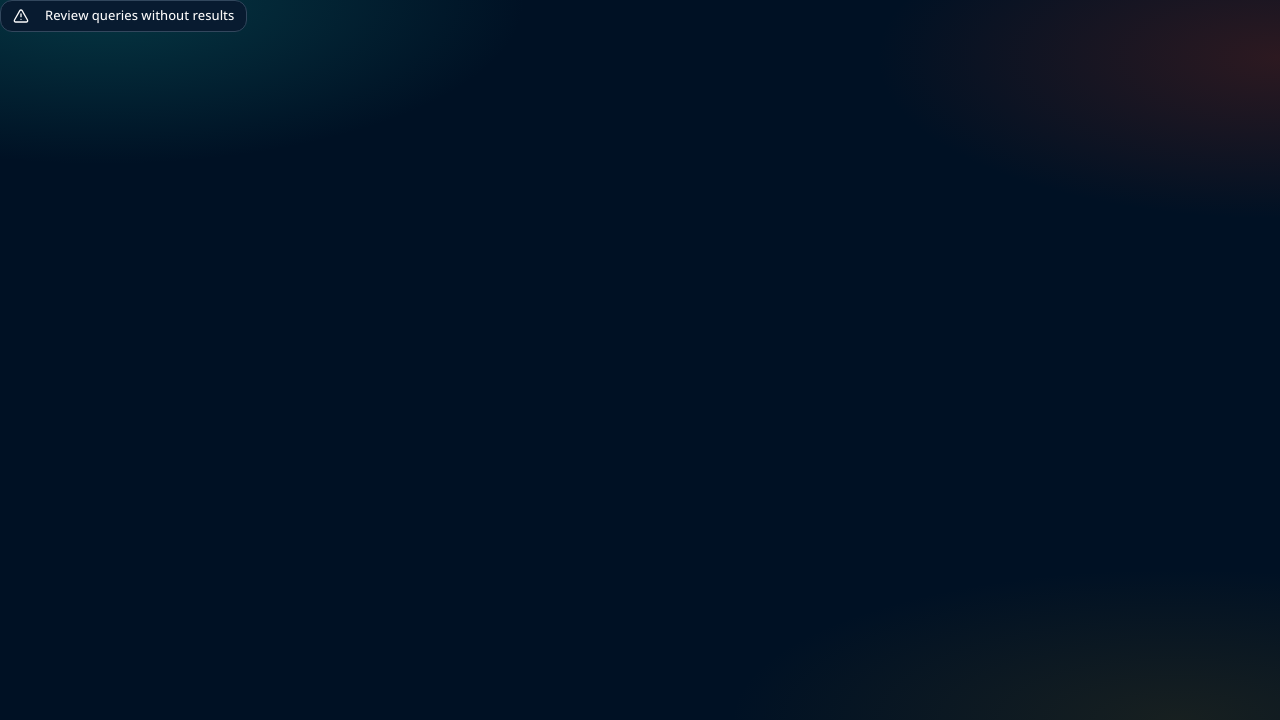
SERP exclusion review › keeps the pipeline stopped when the approved scope is rejected
Click the button "Review queries without results" at (124, 16), box 0,0 -> 247,32
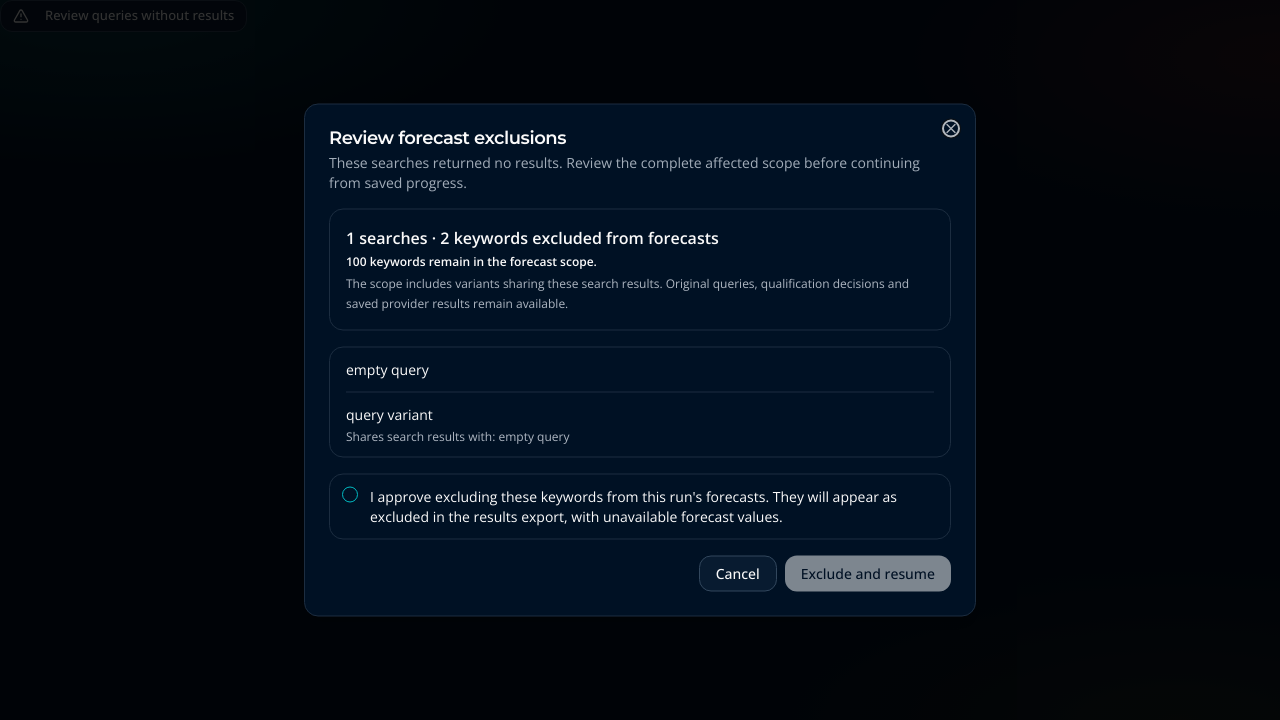
Now the text "1 searches · 2 keywords excluded from forecasts" is shown, box 346,226 -> 719,248
Click the checkbox at (350, 494), box 342,486 -> 358,502
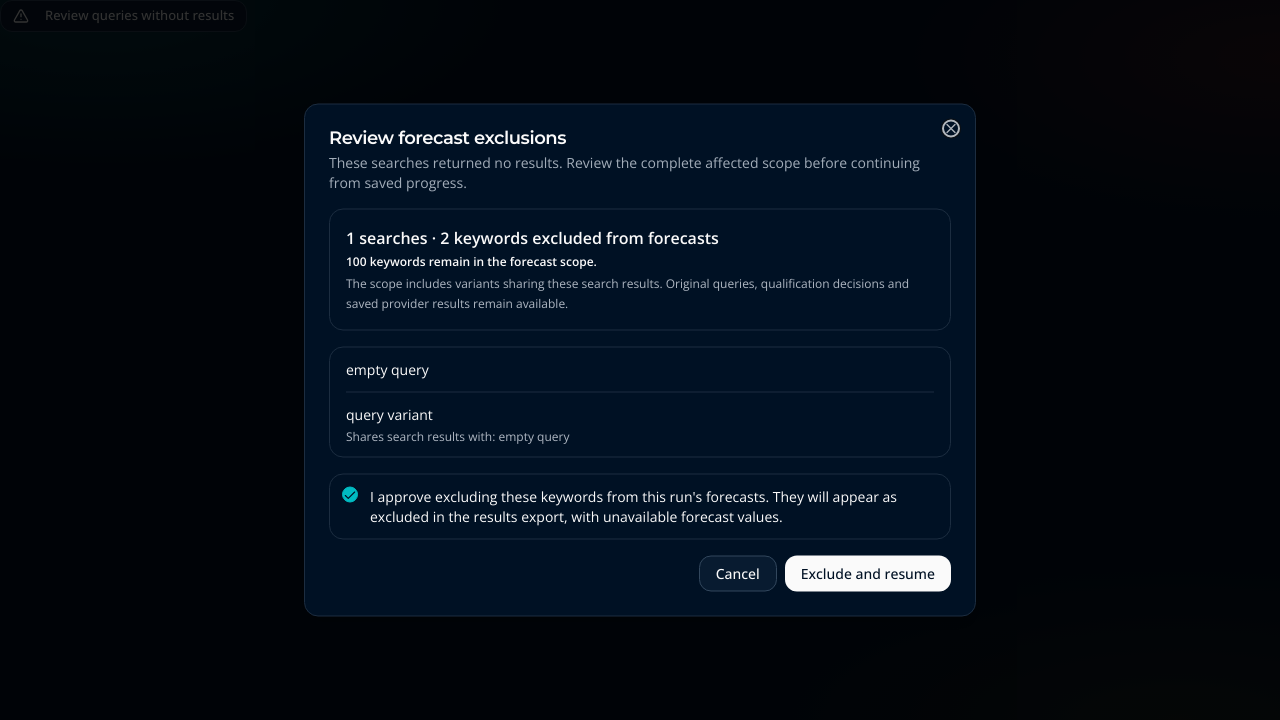
Click the button "Exclude and resume" at (868, 574), box 785,556 -> 951,592
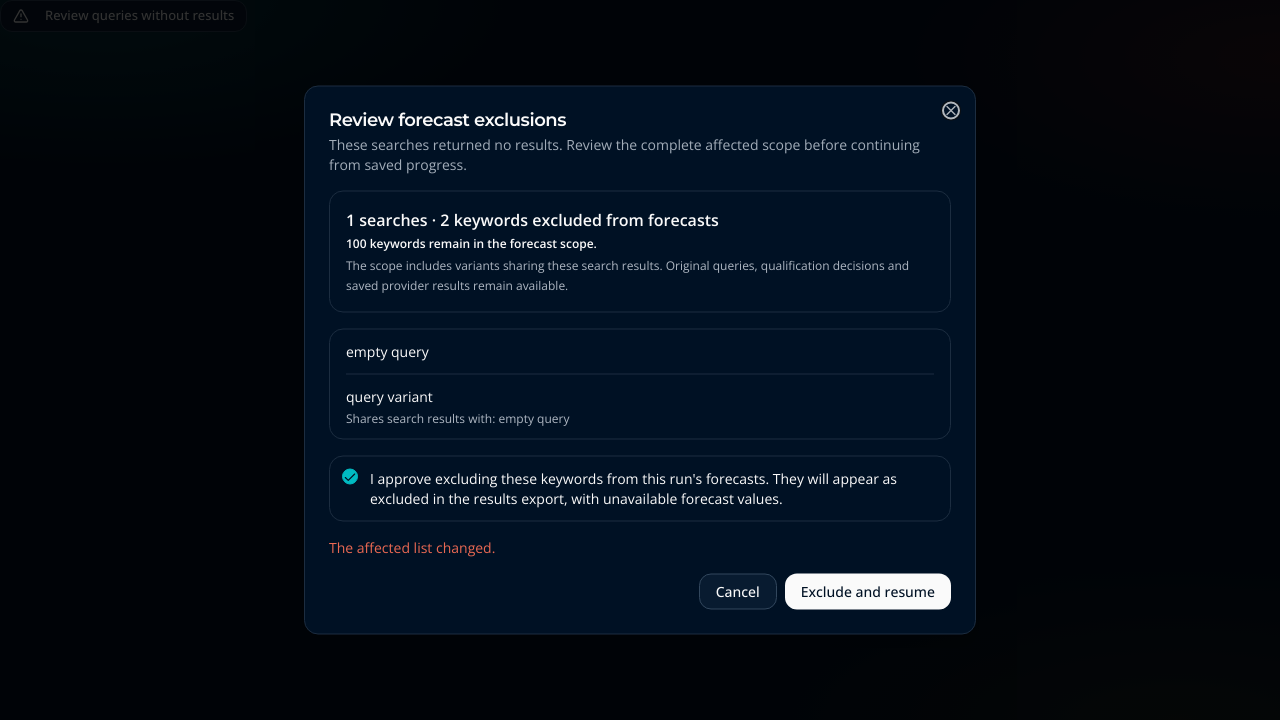
Now the message reads "The affected list changed.", box 329,538 -> 495,556
